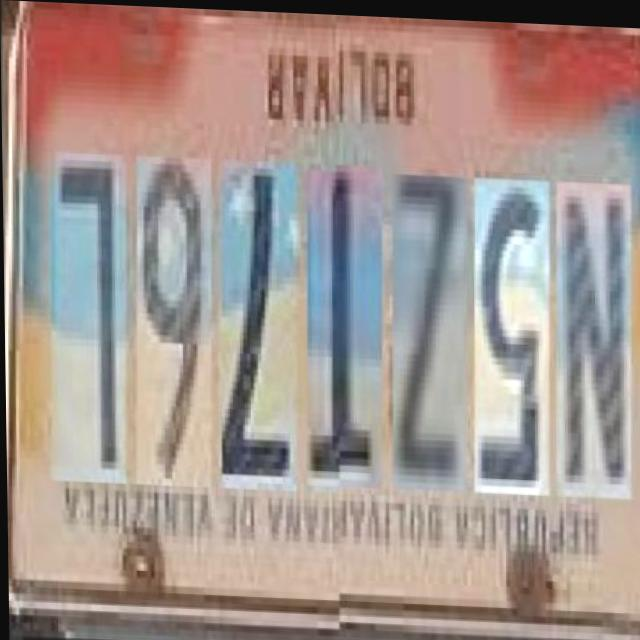5: (469, 180, 551, 498)
6: (130, 154, 213, 487)
7: (216, 157, 299, 490)
l: (46, 151, 128, 484)
n: (551, 183, 633, 501)
t: (302, 168, 384, 492)
z: (387, 177, 469, 495)
